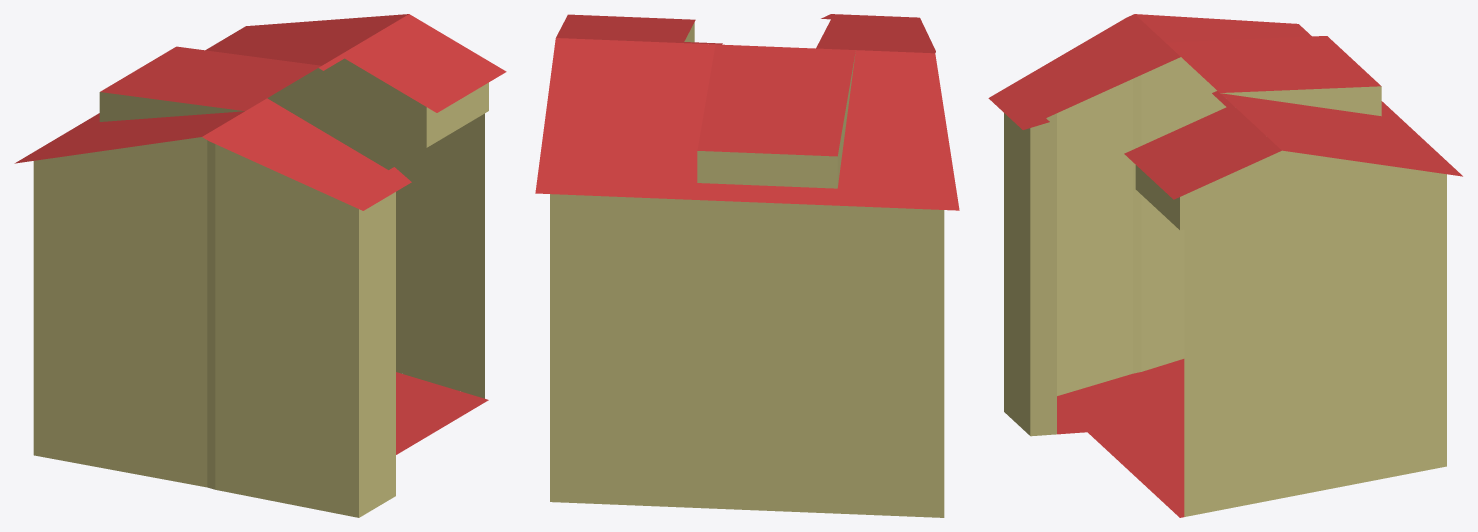
3 renders of one model, left to right at view 1: azimuth 30°, elevation 25°; view 2: azimuth 150°, elevation 25°; view 3: azimuth 270°, elevation 25°, orthographic. The views are drawn at different scales.
Visible parts, largest first — view 1: group_7, group_3, group_4, group_8, group_5; view 2: group_7, group_3, group_4, group_5; view 3: group_7, group_3, group_8, group_4, group_5.
Part boxes in pixels (x1,y1,x2,y2): group_7: (33,58,488,517); group_3: (14,14,506,210); group_4: (100,46,321,110); group_8: (396,372,488,454); group_5: (99,92,244,121); group_7: (550,22,944,517); group_3: (535,14,959,210); group_4: (697,44,855,156); group_5: (697,52,855,188); group_7: (1004,57,1446,516); group_3: (988,14,1462,199); group_8: (1057,359,1184,517); group_4: (1166,36,1381,92); group_5: (1220,86,1381,116).
Size of the model in its own units: 19.54 by 18.82 by 15.44.
